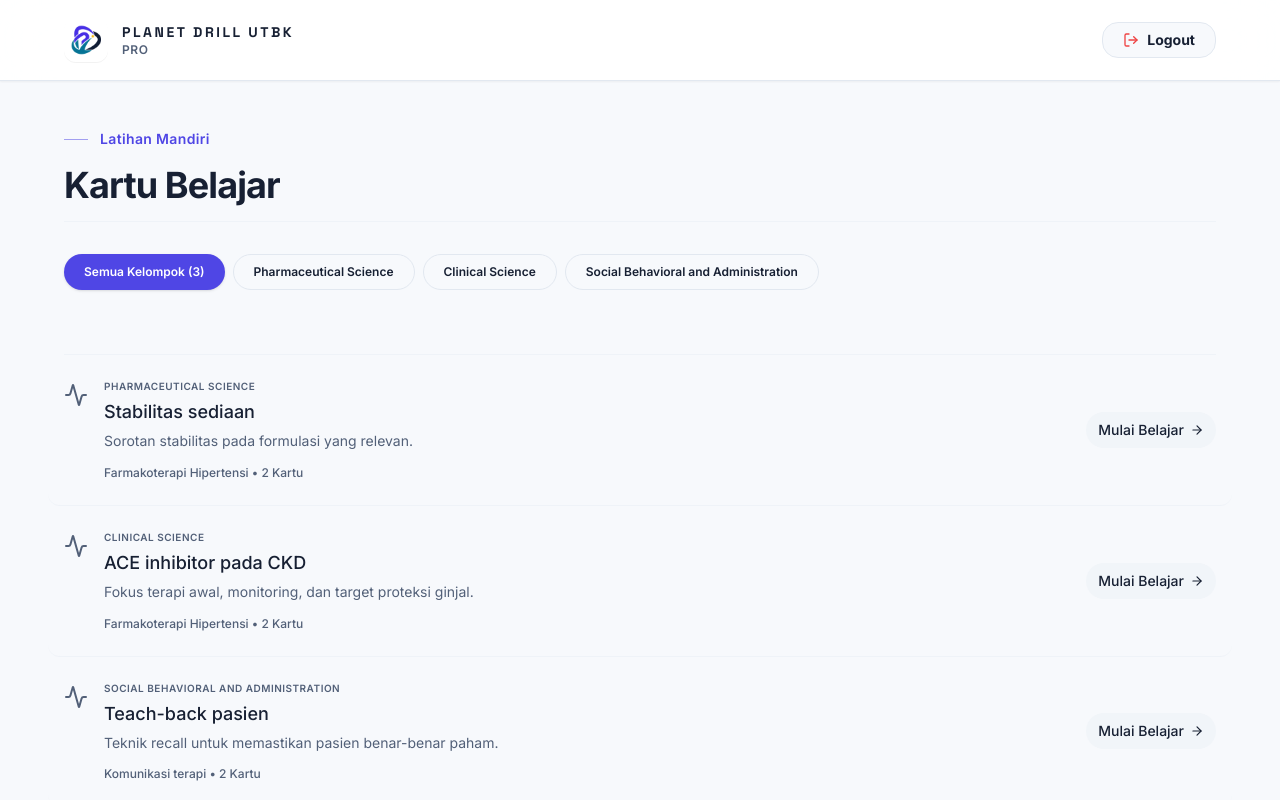
Test: FlashCardsPage › filters cards when clicking on tabs
Expected: the heading "Stabilitas sediaan" is shown, [104, 401, 255, 422]
# Click on Clinical Science tab
Step 1. Click the button "Clinical Science" → (490, 272), box [422, 254, 557, 290]
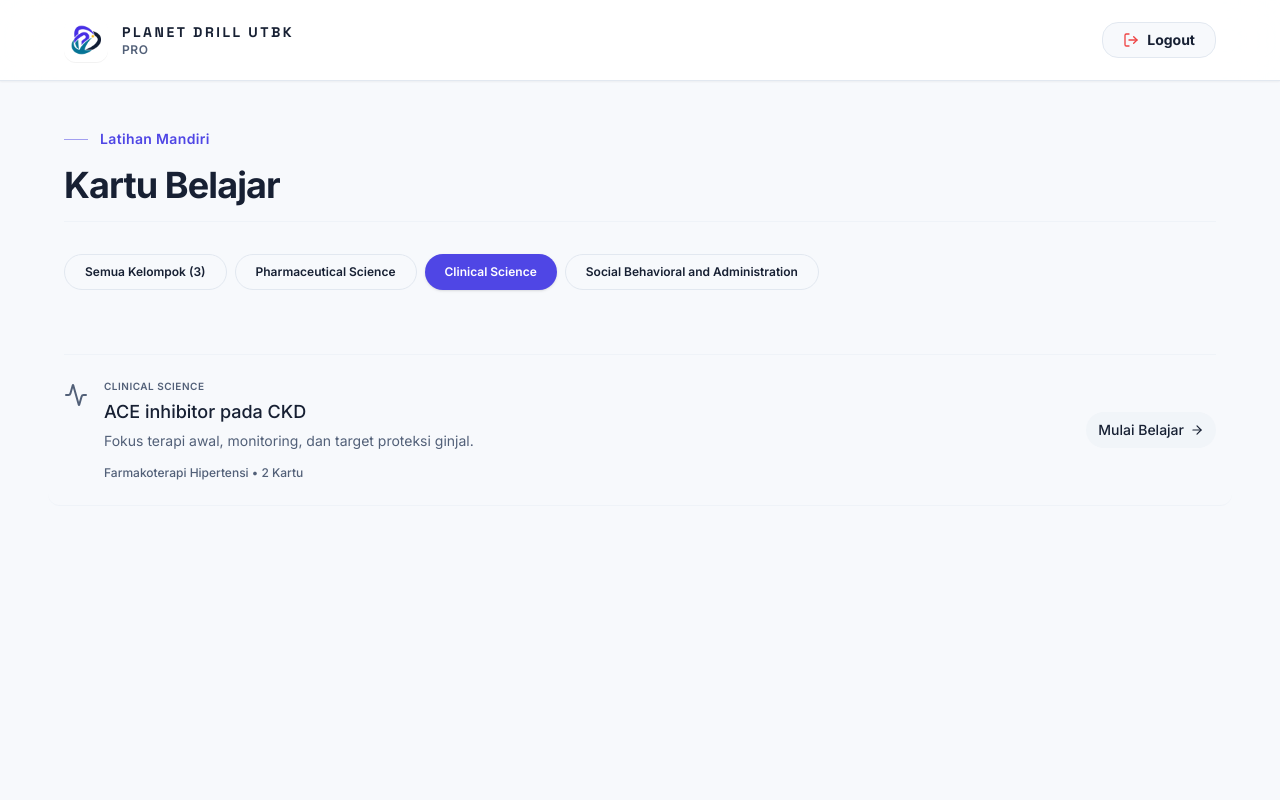
Expected: the heading "ACE inhibitor pada CKD" is shown, [104, 401, 306, 422]
Result: the heading "Stabilitas sediaan" is gone
Result: the heading "Teach-back pasien" is gone
# Click on Semua tab
Step 2. Click the button "Semua Kelompok (3)" → (145, 272), box [64, 254, 226, 290]
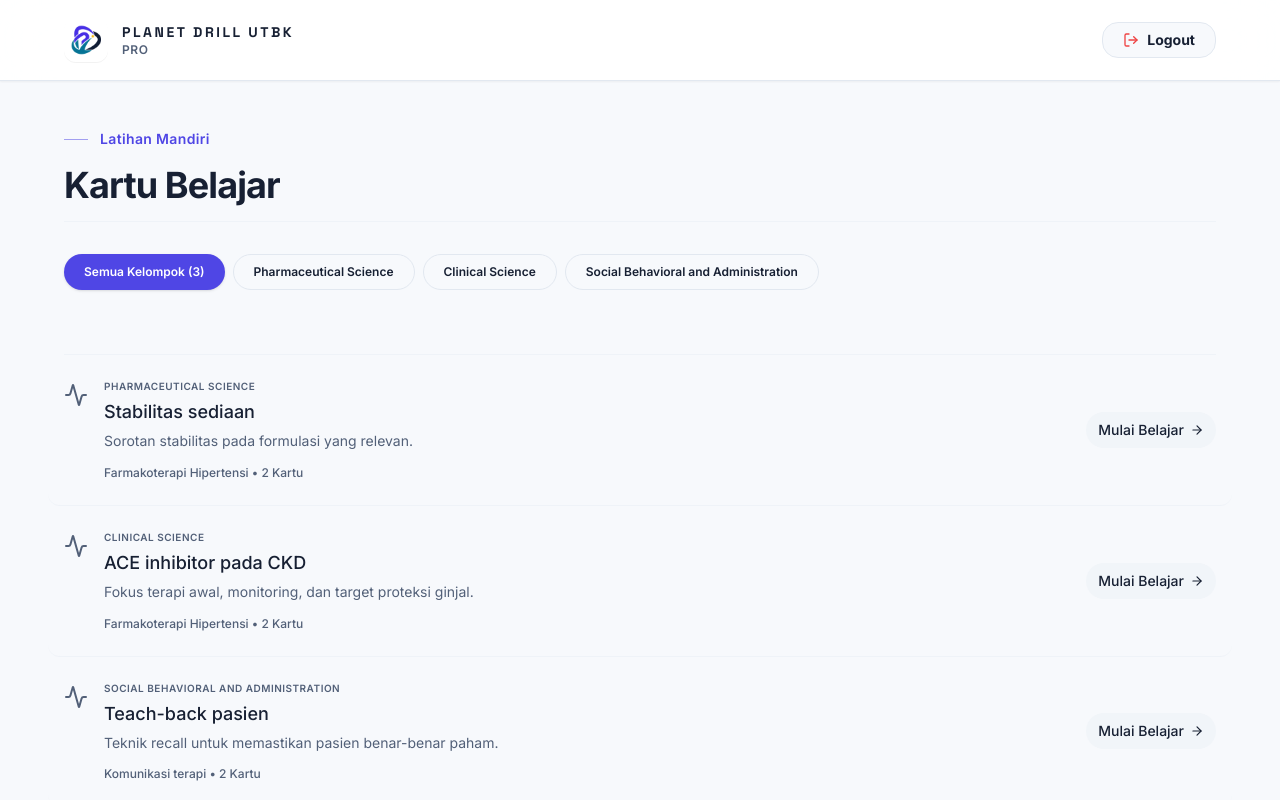
Expected: the heading "ACE inhibitor pada CKD" is shown, [104, 552, 306, 573]
Result: the heading "Stabilitas sediaan" is shown at [104, 401, 255, 422]
